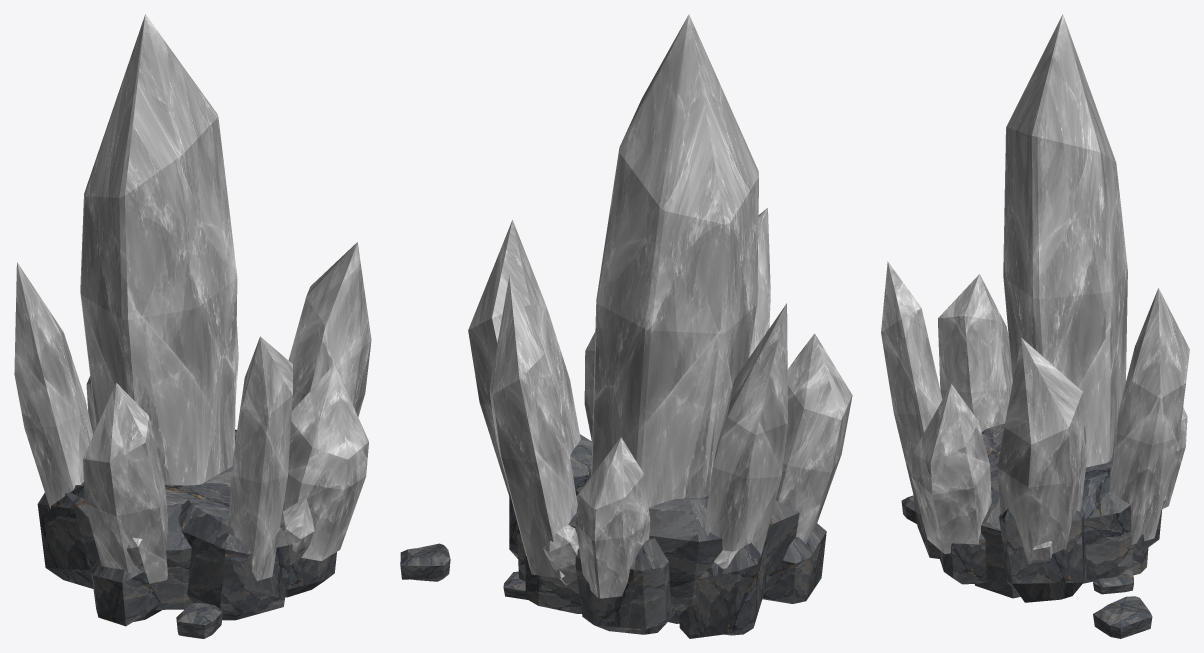
File: Ore_Y2.fbx
3 views of the same model, side by side, from view 1: azimuth 30°, elevation 25°; view 2: azimuth 150°, elevation 25°; view 3: azimuth 270°, elevation 25° (orthographic). The views are drawn at different scales.
Visible parts, largest first — view 1: Ore_Y2_LOD0; view 2: Ore_Y2_LOD0; view 3: Ore_Y2_LOD0.
Part boxes in pixels (x1,y1,x2,y2): Ore_Y2_LOD0: (14,14,371,638); Ore_Y2_LOD0: (400,14,852,638); Ore_Y2_LOD0: (881,14,1189,638).
Size of what is drawn, in the model's own units: 1.4 by 2.13 by 1.14.
2 materials, 2 textured.
